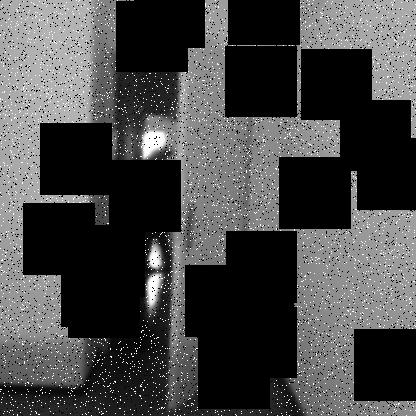Porte: (94, 23, 269, 411)
